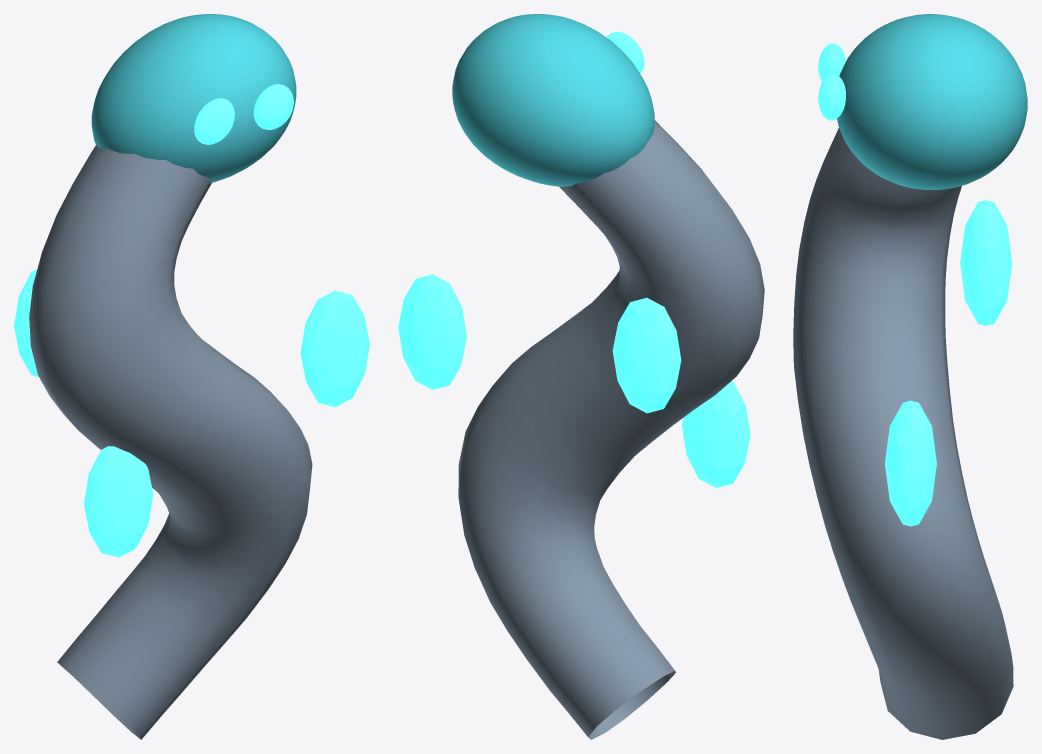
File: serpent_v7.glb
3 renders of one model, left to right at view 1: azimuth 30°, elevation 25°; view 2: azimuth 150°, elevation 25°; view 3: azimuth 270°, elevation 25°, orthographic. The views are drawn at different scales.
Visible parts, largest first — view 1: SERPENT_BODY_PRIMARY, SERPENT_HEAD_ACCENT, ORBIT_SHARD_EMISSIVE, ORBIT_SHARD_EMISSIVE.002, EYE_EMISSIVE, EYE_EMISSIVE.001, ORBIT_SHARD_EMISSIVE.001; view 2: SERPENT_BODY_PRIMARY, SERPENT_HEAD_ACCENT, ORBIT_SHARD_EMISSIVE, ORBIT_SHARD_EMISSIVE.001, ORBIT_SHARD_EMISSIVE.002, EYE_EMISSIVE; view 3: SERPENT_BODY_PRIMARY, SERPENT_HEAD_ACCENT, ORBIT_SHARD_EMISSIVE.001, ORBIT_SHARD_EMISSIVE, EYE_EMISSIVE.001, EYE_EMISSIVE.
Part boxes in pixels (<box>): SERPENT_BODY_PRIMARY: <box>29,145,312,739</box>; SERPENT_HEAD_ACCENT: <box>91,14,296,182</box>; ORBIT_SHARD_EMISSIVE: <box>300,290,369,407</box>; ORBIT_SHARD_EMISSIVE.002: <box>84,446,153,557</box>; EYE_EMISSIVE: <box>194,98,234,144</box>; EYE_EMISSIVE.001: <box>253,84,293,129</box>; ORBIT_SHARD_EMISSIVE.001: <box>14,269,38,376</box>; SERPENT_BODY_PRIMARY: <box>458,120,764,739</box>; SERPENT_HEAD_ACCENT: <box>452,14,654,186</box>; ORBIT_SHARD_EMISSIVE: <box>398,274,466,389</box>; ORBIT_SHARD_EMISSIVE.001: <box>612,297,681,413</box>; ORBIT_SHARD_EMISSIVE.002: <box>681,381,750,487</box>; EYE_EMISSIVE: <box>606,31,644,73</box>; SERPENT_BODY_PRIMARY: <box>793,128,1013,739</box>; SERPENT_HEAD_ACCENT: <box>837,14,1027,189</box>; ORBIT_SHARD_EMISSIVE.001: <box>960,200,1012,325</box>; ORBIT_SHARD_EMISSIVE: <box>885,400,936,526</box>; EYE_EMISSIVE.001: <box>818,73,845,120</box>; EYE_EMISSIVE: <box>818,43,845,81</box>.
Size of the model in its own units: 1.47 by 2.86 by 0.8093.
